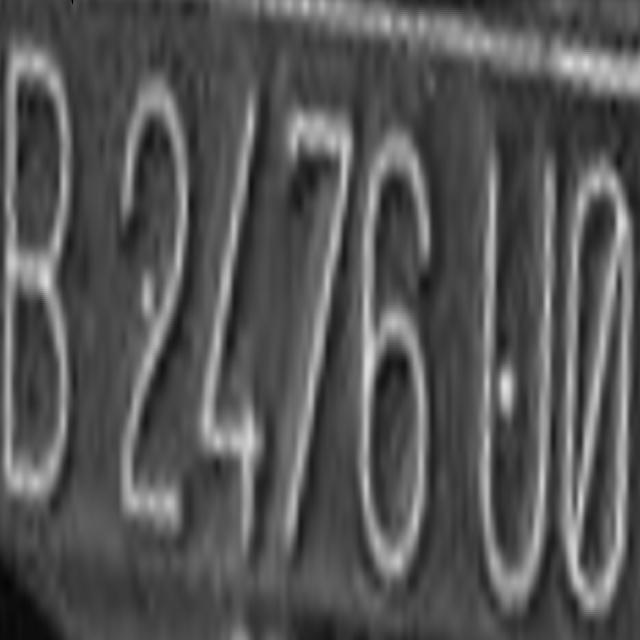2: (108, 53, 196, 557)
4: (210, 60, 272, 590)
6: (360, 120, 432, 614)
7: (278, 93, 332, 555)
B: (1, 30, 68, 522)
O: (570, 163, 634, 623)
U: (480, 135, 550, 610)
